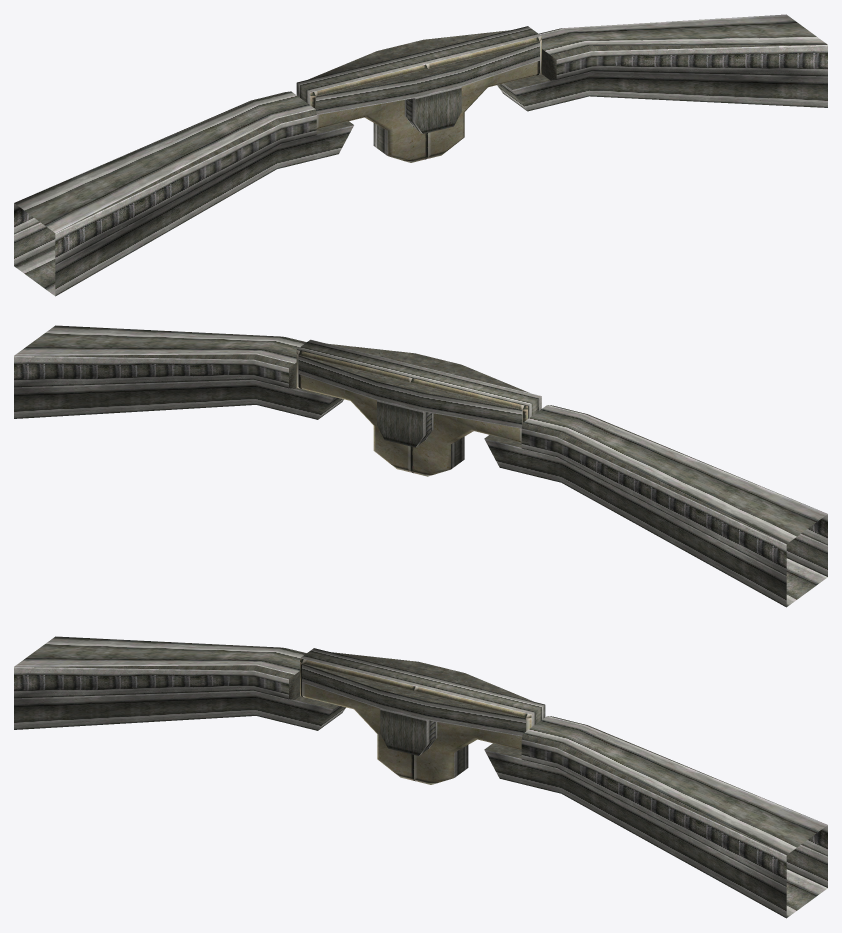
Rendered from DWARF_PALACE_FORGE_LARGECOLUMN.fbx.
3 renders of one model, top to bottom at view 1: azimuth 30°, elevation 25°; view 2: azimuth 150°, elevation 25°; view 3: azimuth 330°, elevation 25°, orthographic.
Visible parts, largest first — view 1: DWARF_PALACE_FORGE_LARGECOLUMN; view 2: DWARF_PALACE_FORGE_LARGECOLUMN; view 3: DWARF_PALACE_FORGE_LARGECOLUMN.
Boxes of the visible parts, x1,y1,x2,y2 form: DWARF_PALACE_FORGE_LARGECOLUMN: [14, 14, 827, 296]; DWARF_PALACE_FORGE_LARGECOLUMN: [14, 325, 827, 607]; DWARF_PALACE_FORGE_LARGECOLUMN: [14, 636, 827, 918].
Bounding box in the file's own units: 255927 × 40000 × 23896.
4 materials, 4 textured.
